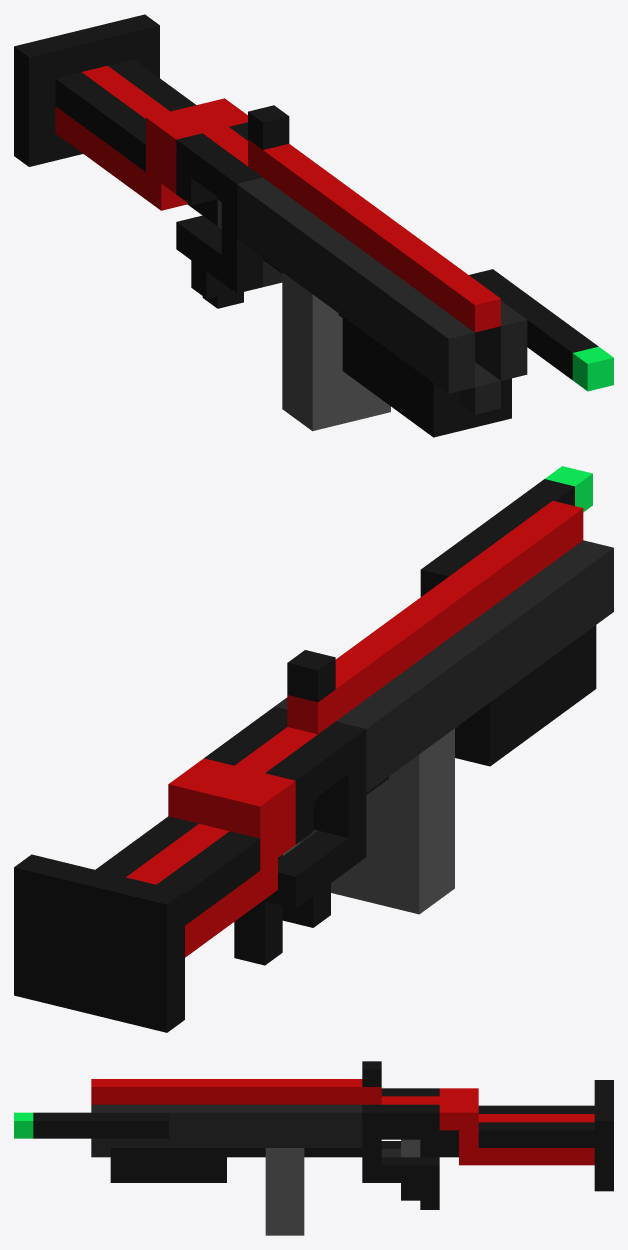
The model's file is MachineGun.obj.
The picture shows the model from 3 angles, top to bottom: view 1: azimuth 30°, elevation 25°; view 2: azimuth 150°, elevation 25°; view 3: azimuth 270°, elevation 25°; orthographic projection. The views are drawn at different scales.
Bounding box in the file's own units: 0.5 × 0.9 × 3.1.
1 material, 1 textured.
